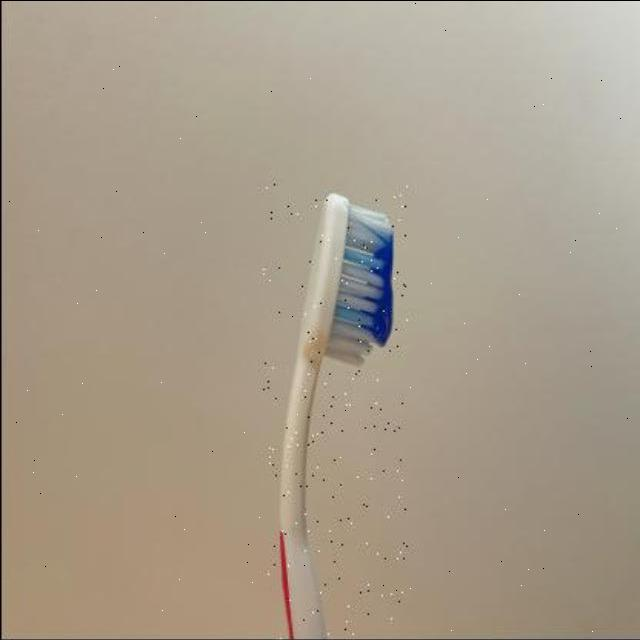toothbrush: (262, 184, 406, 640)
